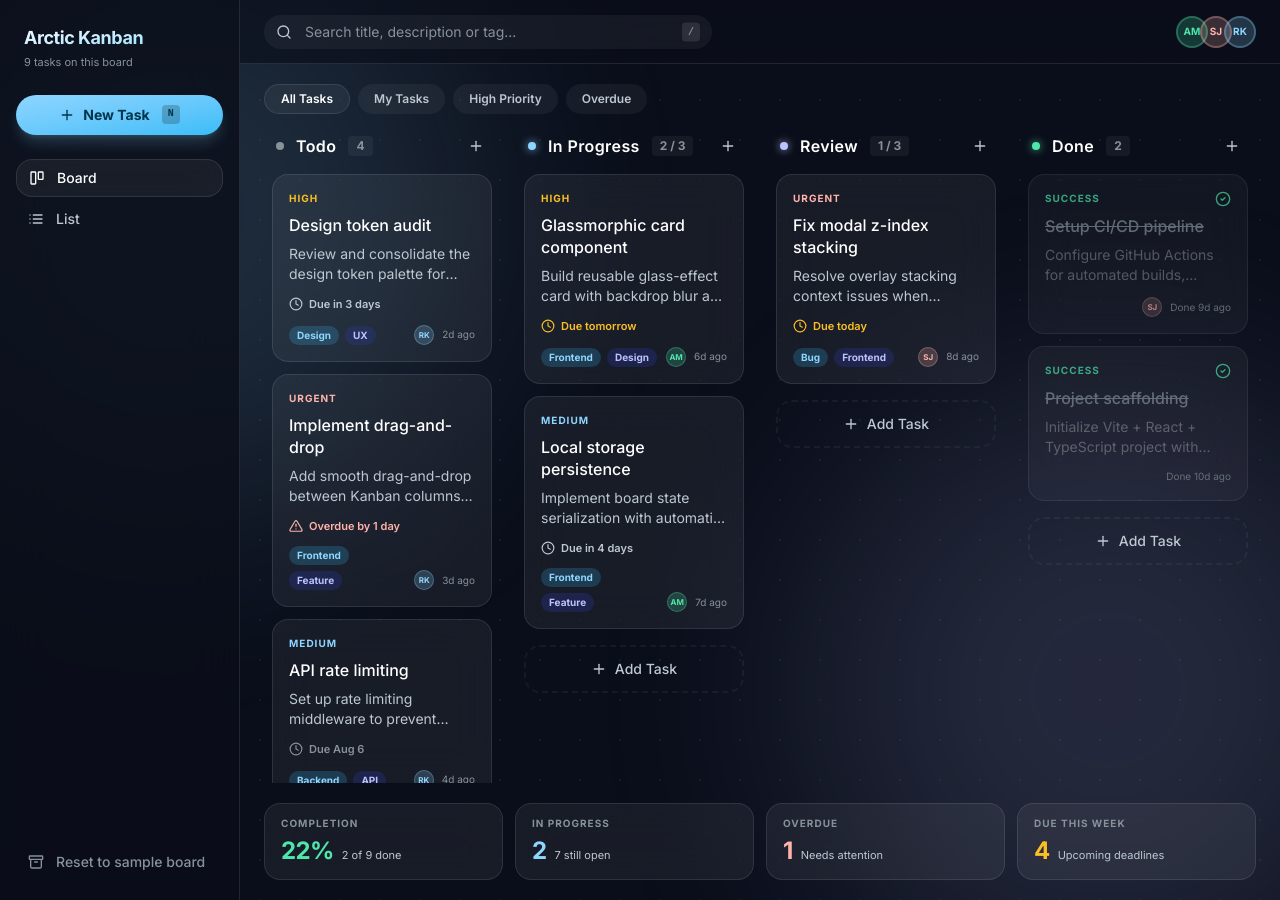
Test: KanbanBoard › creates a task and persists it to localStorage
Click the button "New Task N": (120, 114) [16, 94, 223, 134]
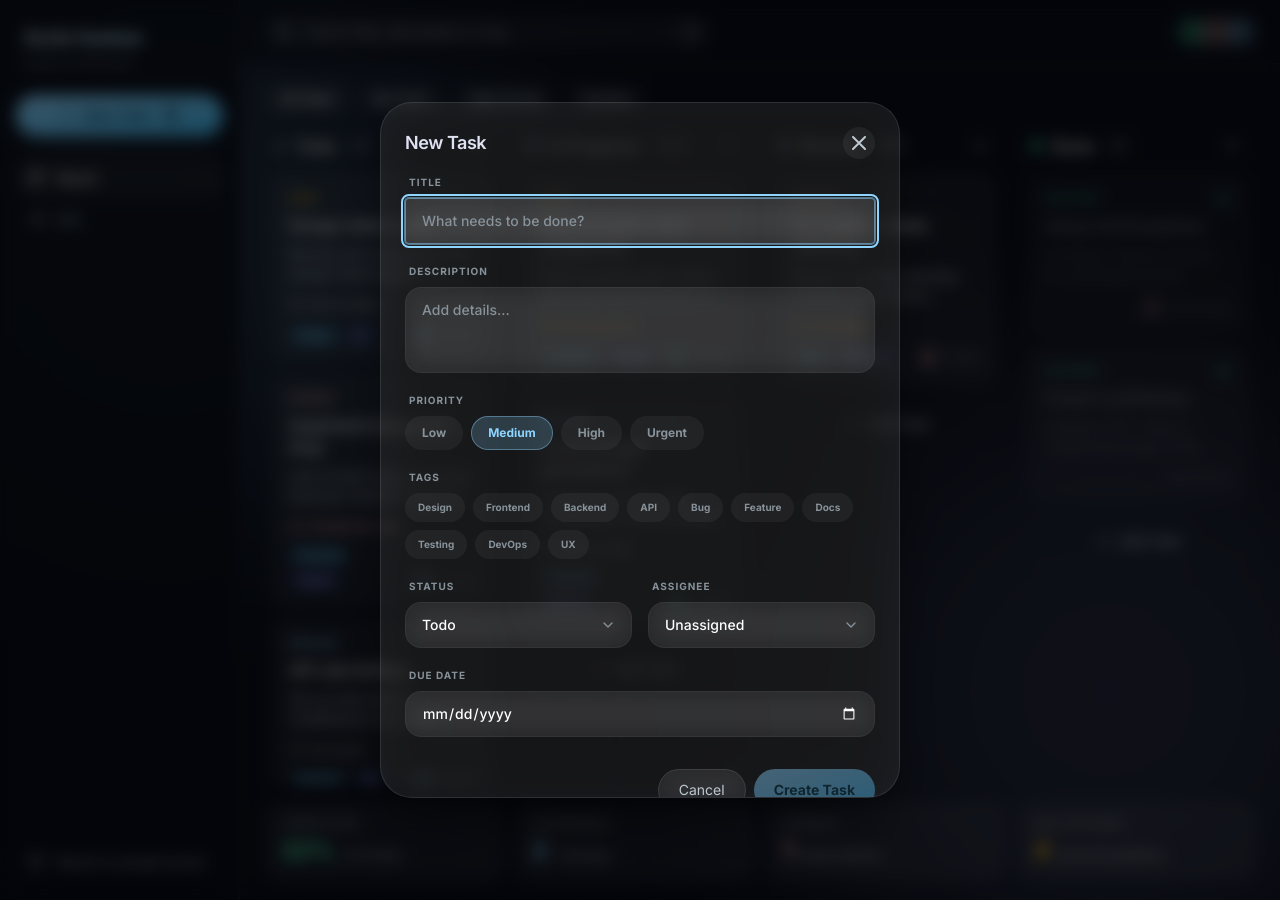
In the field labelled "Title": (640, 221) [405, 198, 875, 244], type "Ship the audit"
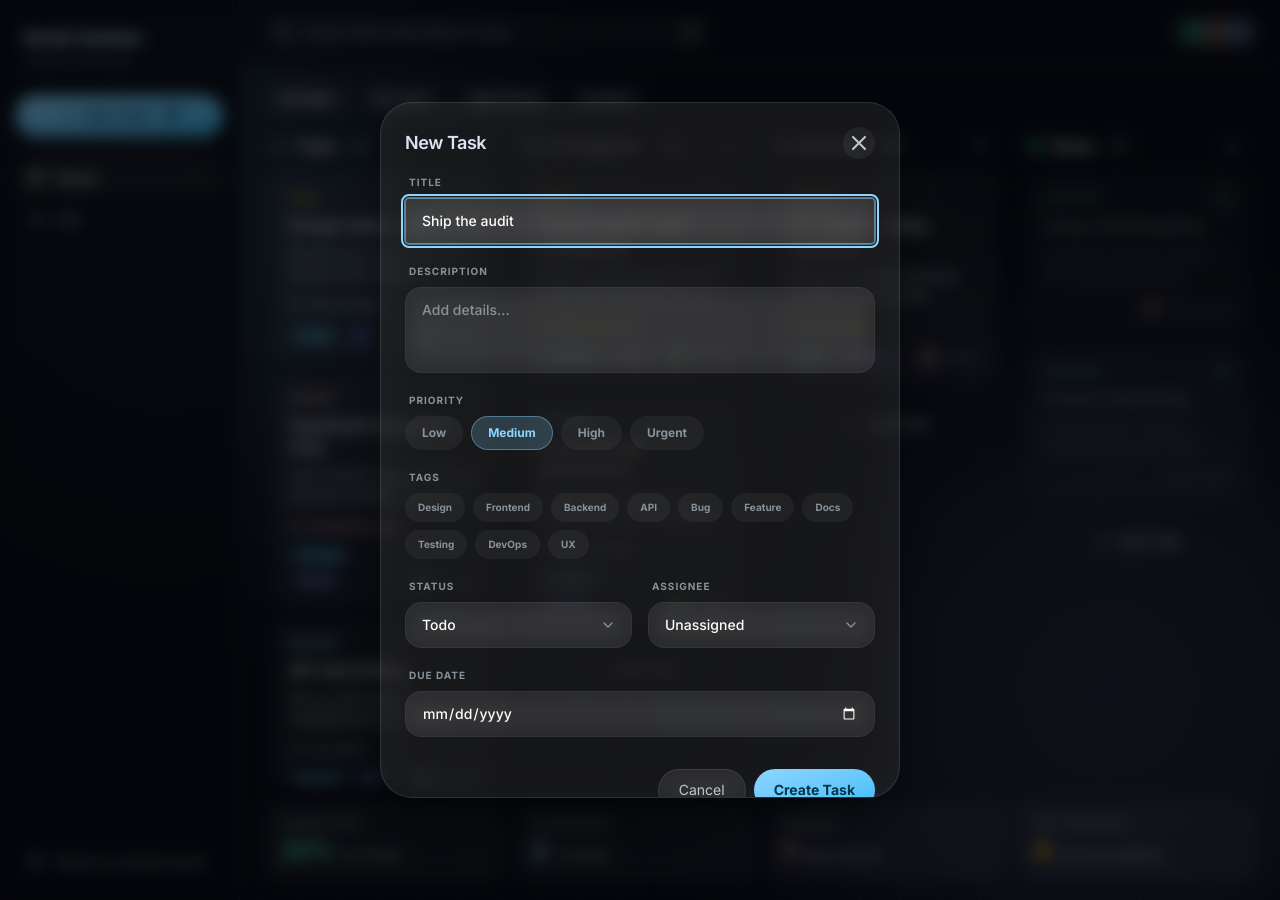
Click the button "Create Task": (814, 790) [754, 769, 875, 811]
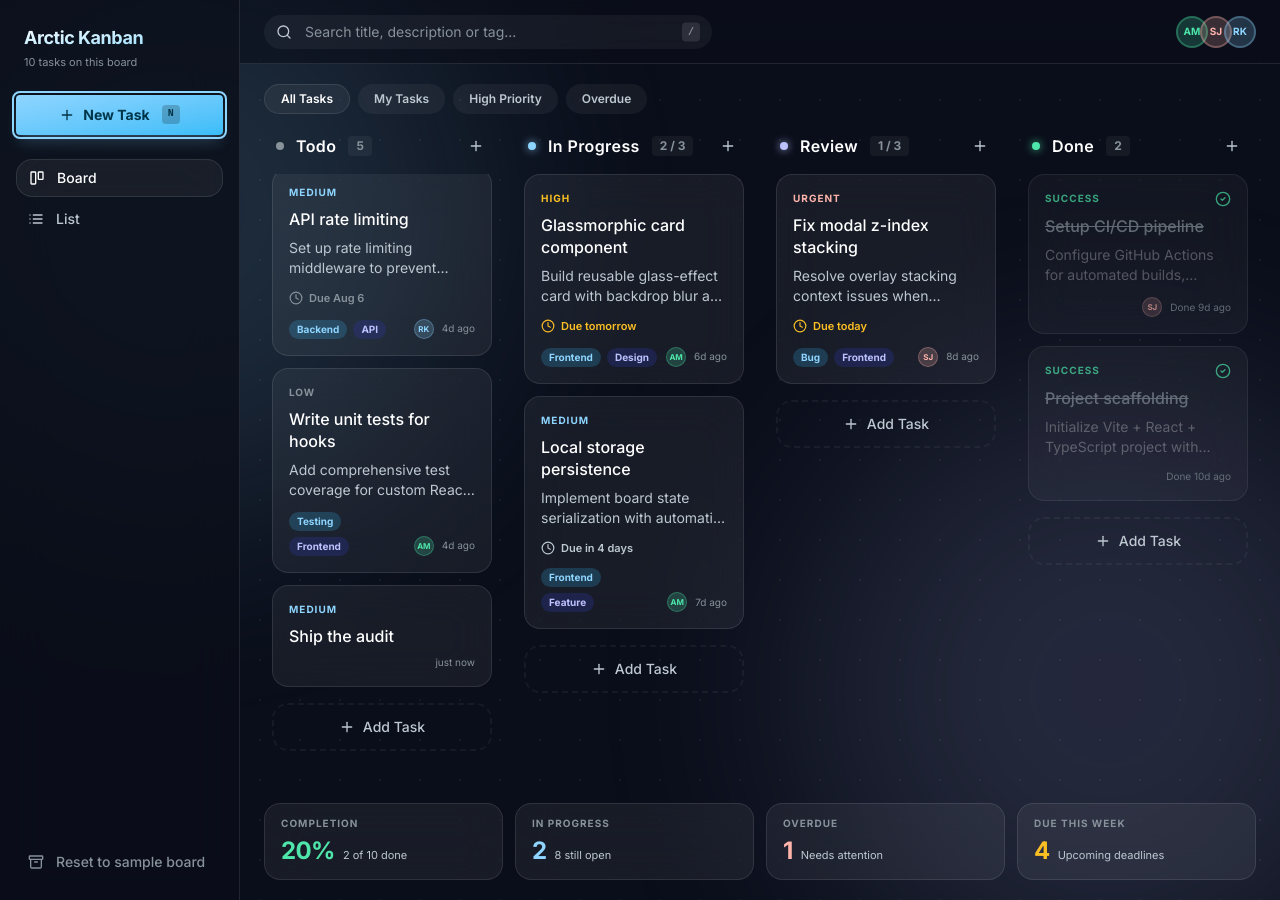
Check: the dialog is gone
Check: the heading "Ship the audit" is shown, box [289, 626, 394, 646]
